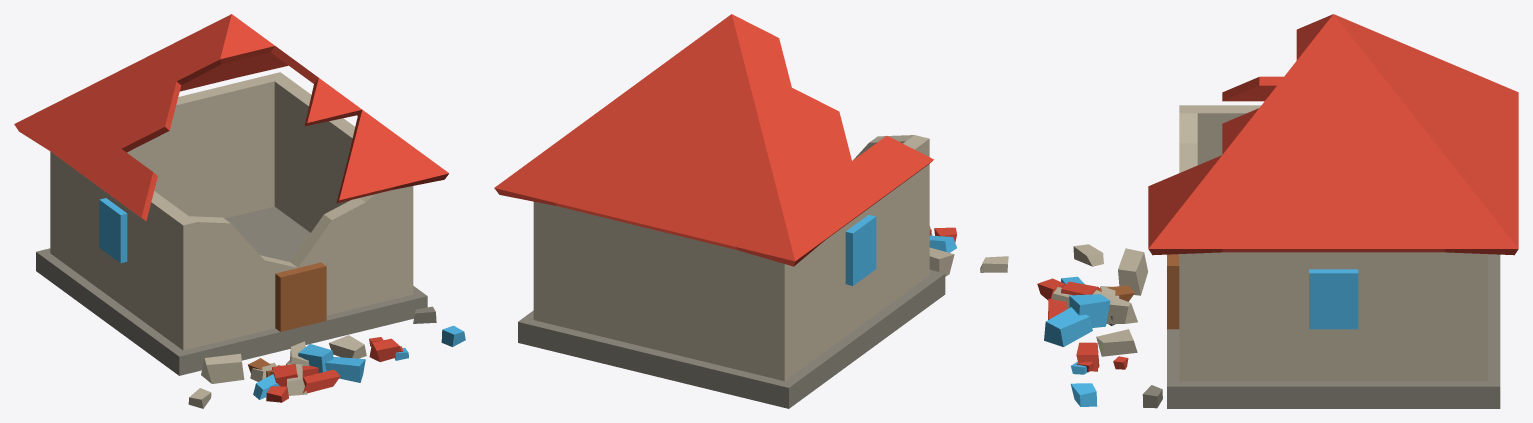
The model's file is house_t1_v3_dmg1.glb.
3 renders of one model, left to right at view 1: azimuth 30°, elevation 25°; view 2: azimuth 150°, elevation 25°; view 3: azimuth 270°, elevation 25°, orthographic. The views are drawn at different scales.
Parts seen in each view (by area): view 1: house_t1_v3_dmg1; view 2: house_t1_v3_dmg1; view 3: house_t1_v3_dmg1.
Part boxes in pixels (x1,y1,x2,y2): house_t1_v3_dmg1: (14, 14, 465, 408); house_t1_v3_dmg1: (494, 14, 1008, 408); house_t1_v3_dmg1: (1037, 14, 1518, 408).
Bounding box in the file's own units: 0.6219 × 0.58 × 0.78.
Materials: 1 (1 with a texture image).
